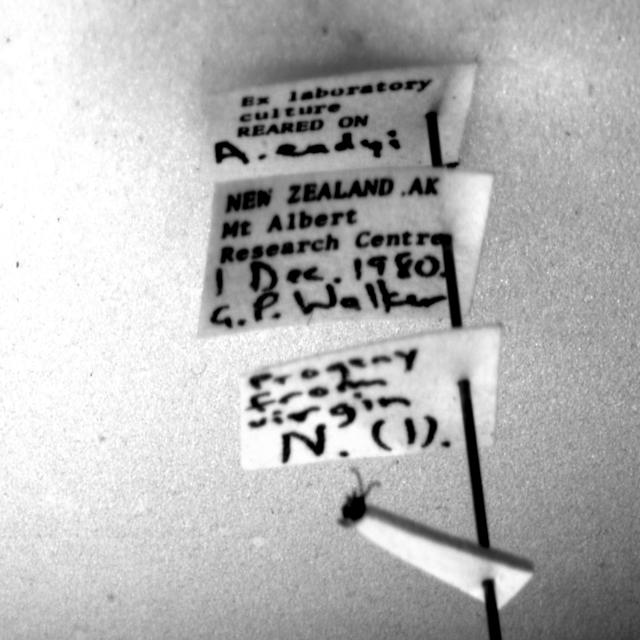hand_label: (240, 324, 501, 469)
mixed_label: (198, 167, 494, 338), (200, 62, 478, 182)
